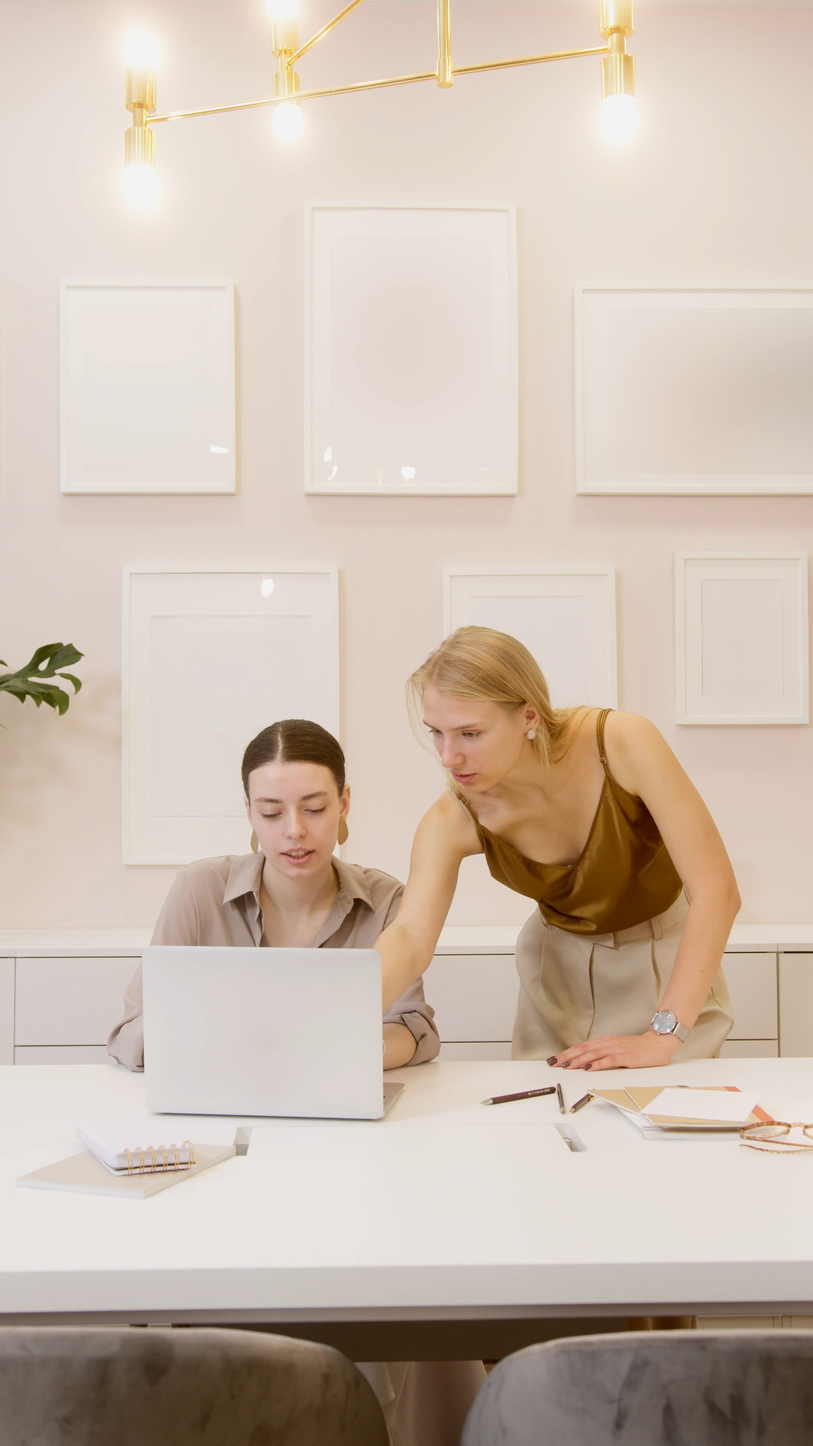No-gloves: (542, 1009, 688, 1083)
